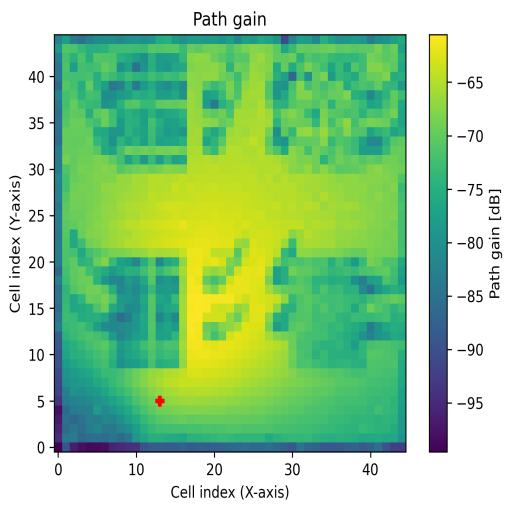Concrete: (289, 54, 367, 174)
Glass: (117, 52, 188, 164)
Metal: (288, 258, 367, 370)
Wood: (109, 258, 179, 370)
